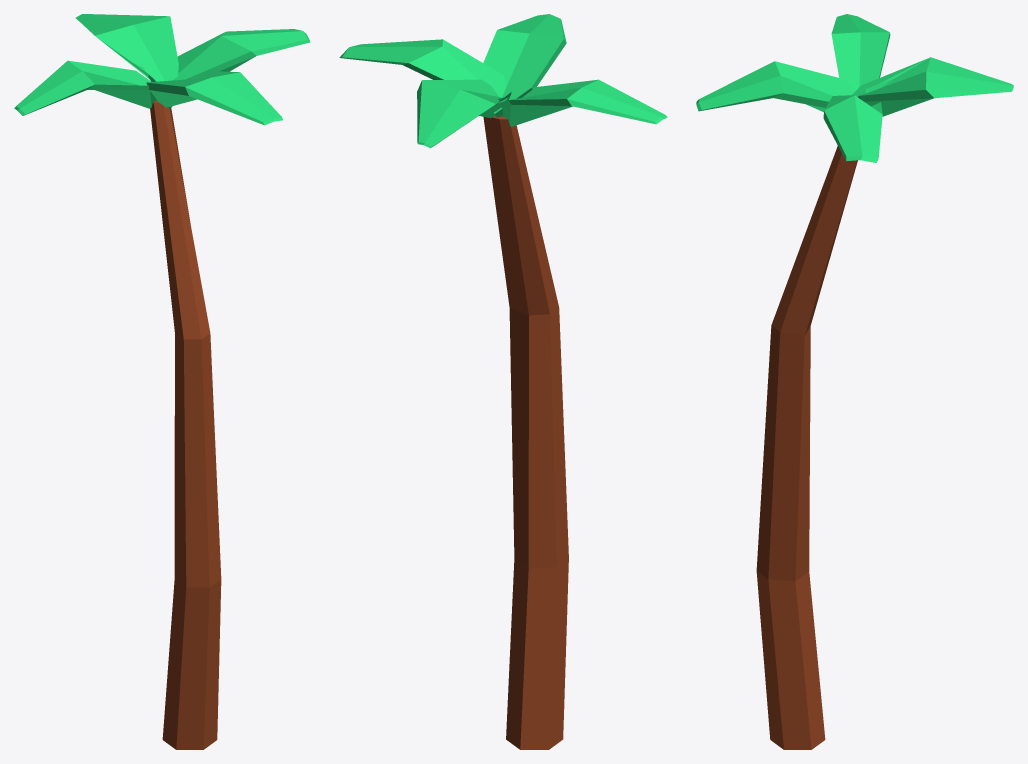
File: MahoganySapling.fbx
The picture shows the model from 3 angles, left to right: view 1: azimuth 30°, elevation 25°; view 2: azimuth 150°, elevation 25°; view 3: azimuth 270°, elevation 25°; orthographic projection. The views are drawn at different scales.
Parts seen in each view (by area): view 1: Cube; view 2: Cube; view 3: Cube.
Part boxes in pixels (bbox=[...]): Cube: bbox=[14, 14, 310, 749]; Cube: bbox=[339, 14, 667, 749]; Cube: bbox=[696, 14, 1013, 749].
Bounding box in the file's own units: 87.33 × 80.67 × 189.
